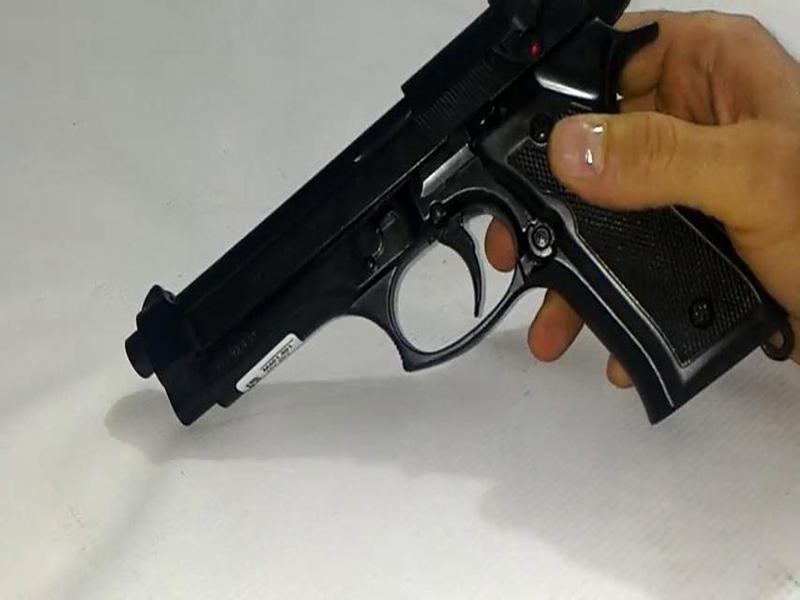Pistola: (87, 17, 777, 465)
